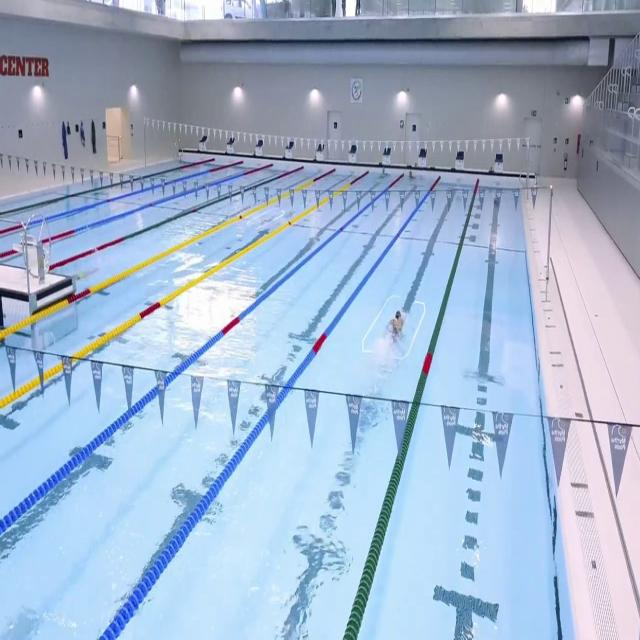Swimming: (382, 311, 406, 348)
